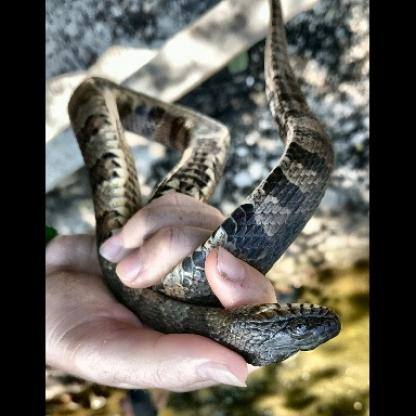Snake: (67, 17, 346, 363)
